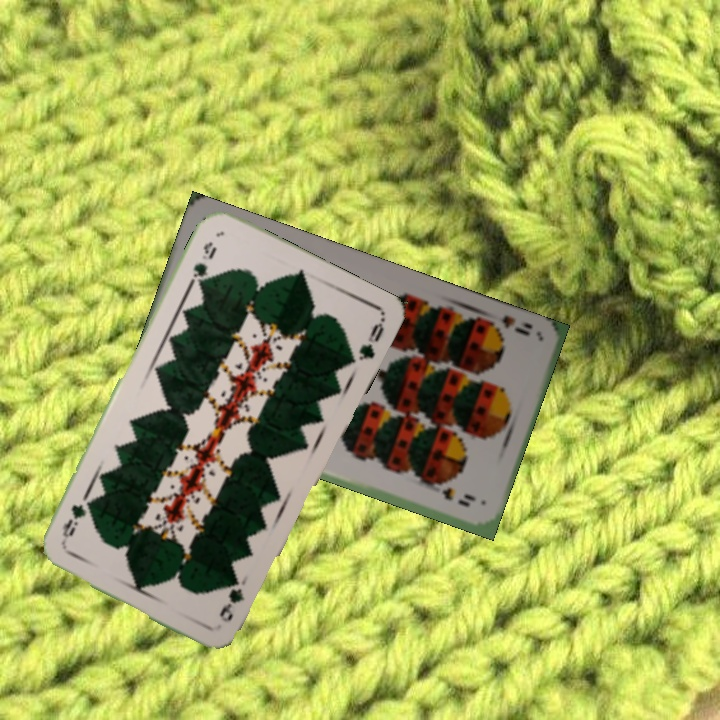G9: (215, 572, 251, 625), (185, 237, 220, 290)
S9: (481, 311, 533, 339)
